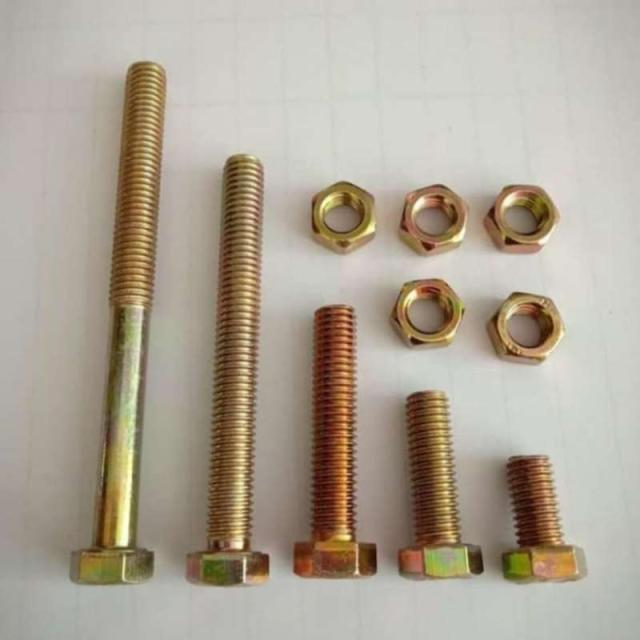Logam: (81, 35, 594, 626)
